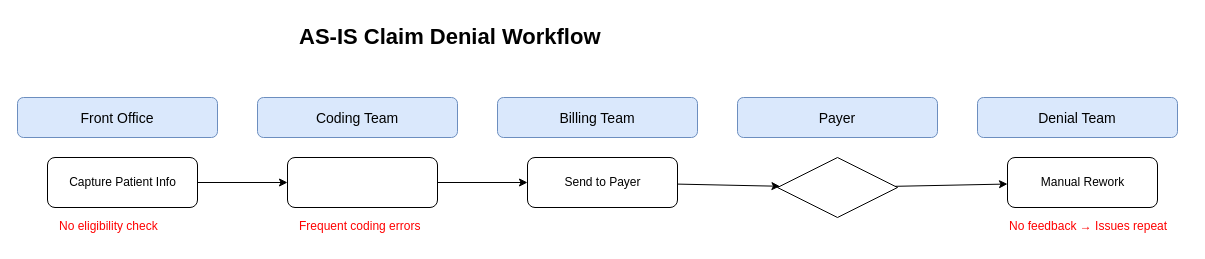
Some shapes in this 1205 by 259 pixel diagram are drawn without their labels. The shapes that lost their labels are listed below. From the top down, each one's box as (x1, y1, x2, y2) in pixels, then its label:
(286, 156, 438, 208): Assign Codes
(776, 156, 898, 218): Claim Denied
